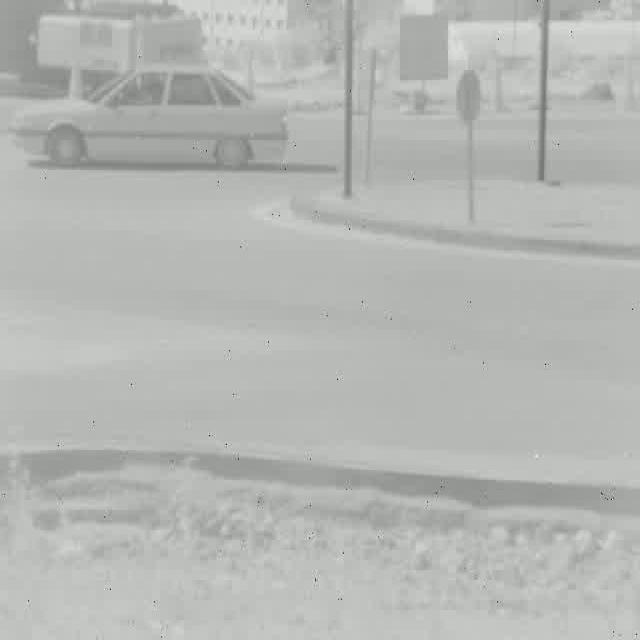Car: (10, 63, 286, 175)
